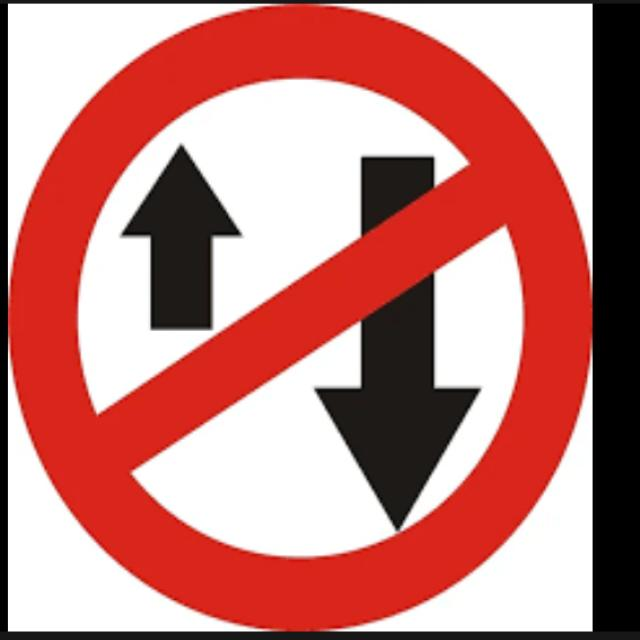ONE_WAY_TRAFFIC: (6, 11, 594, 635)
